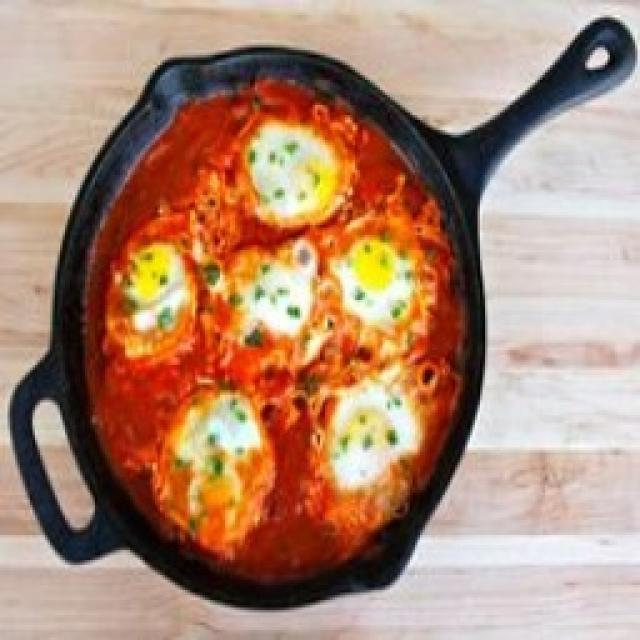Chakchouka: (8, 15, 635, 612)
